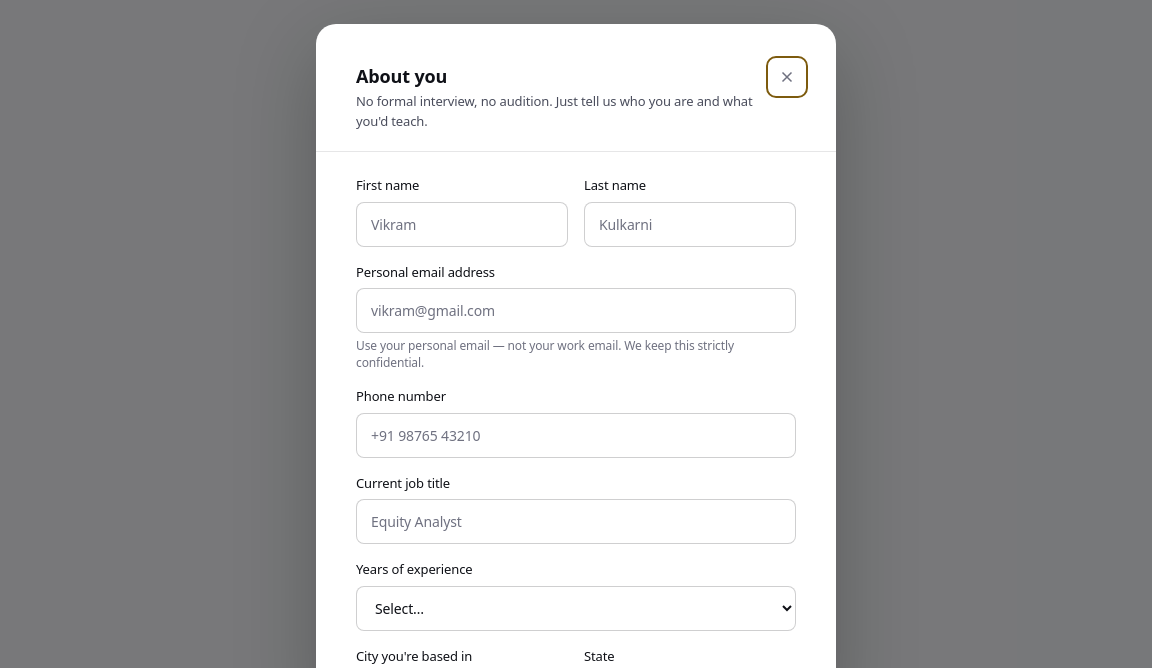
Test: ApplyModal › offers a one-click fix for a mistyped email domain
This screenshot has width=1152, height=668.
Type "vikram@gmial.com" into the field labelled "Personal email address". click: (576, 310)
box: [356, 288, 796, 333]
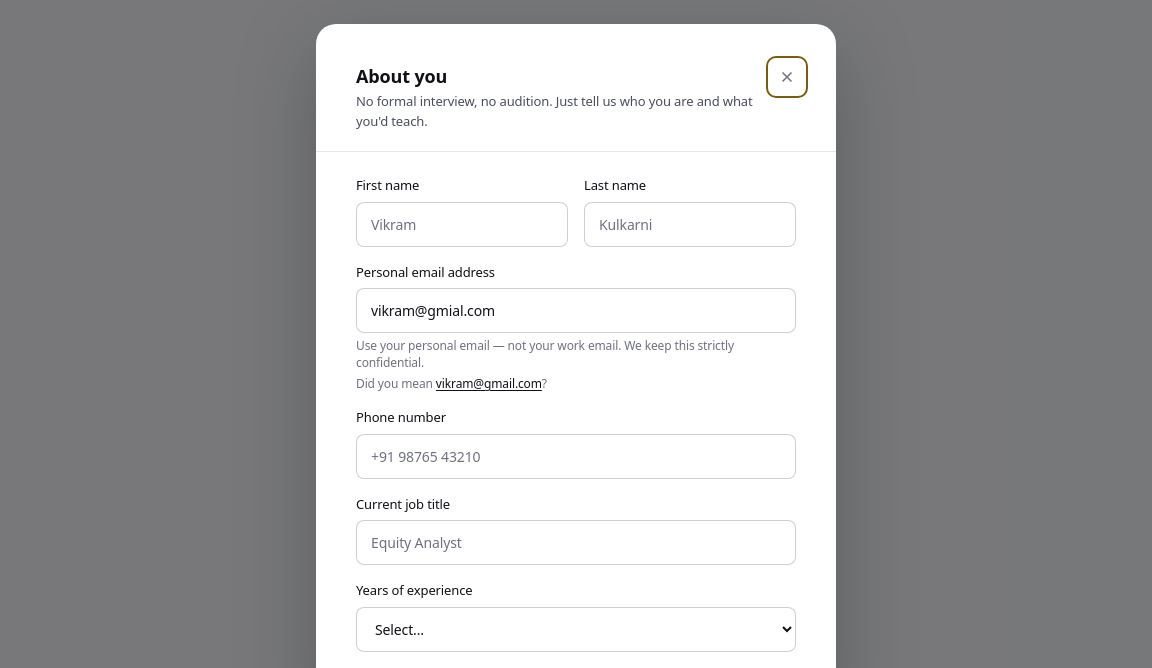
Click the button "vikram@gmail.com". click: (489, 384)
box: [436, 375, 542, 392]
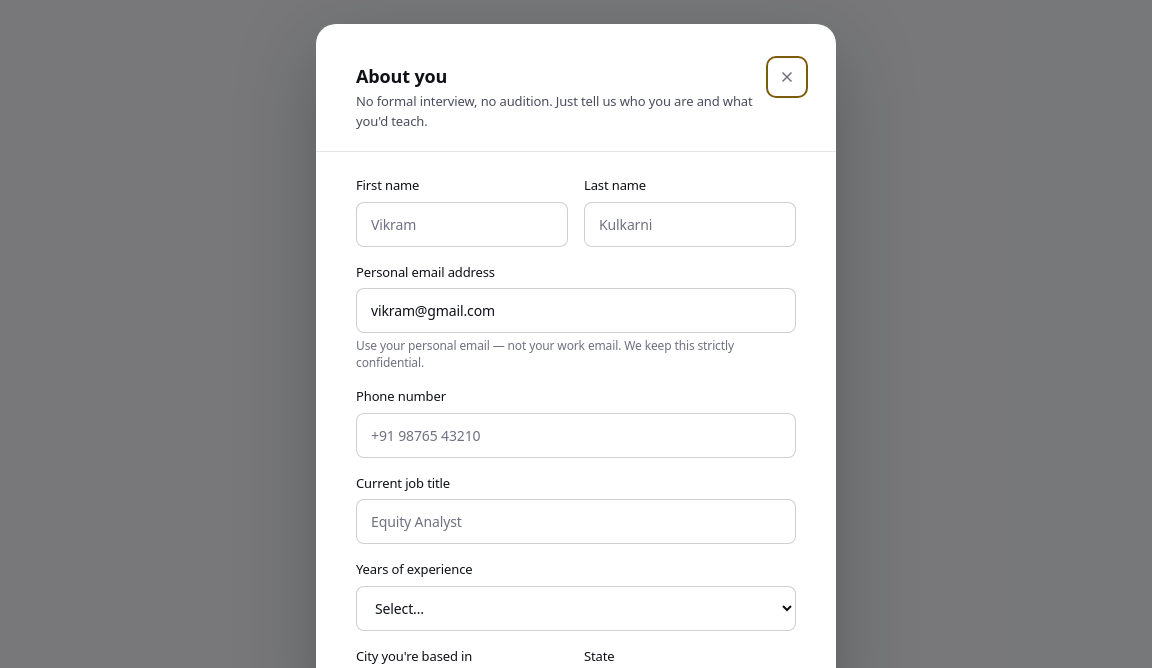
Result: the field labelled "Personal email address" holds "vikram@gmail.com" at [356, 288, 796, 333]
